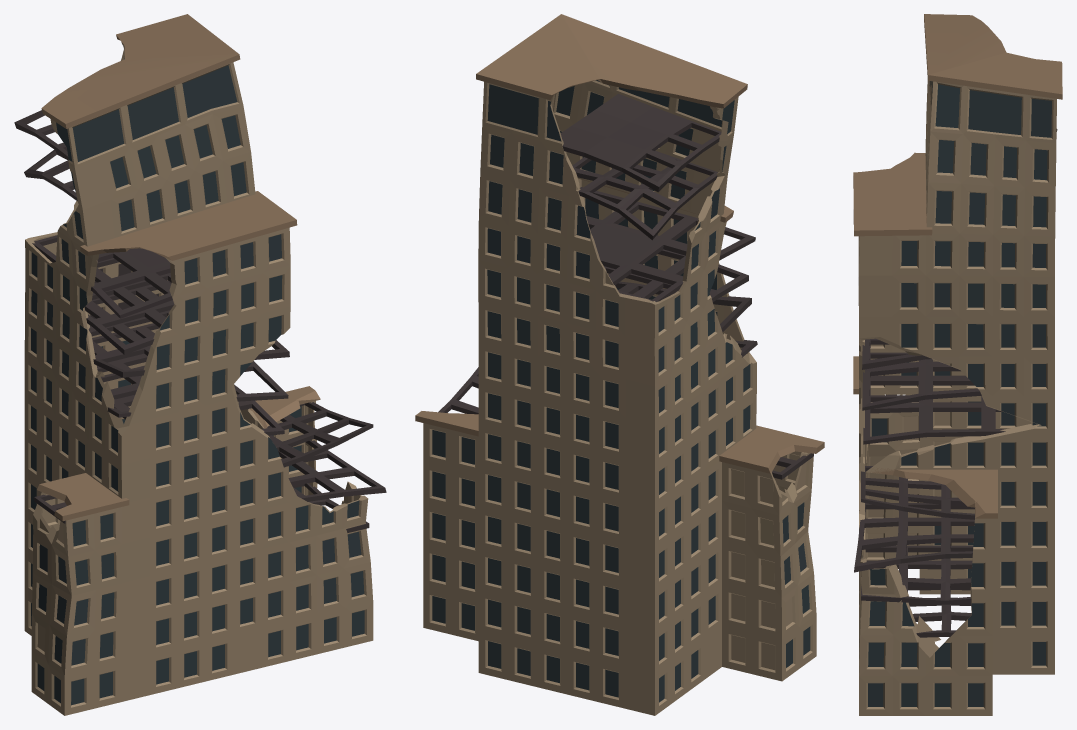
File: LP_PostApoc_BuildingPreset8.fbx
3 renders of one model, left to right at view 1: azimuth 30°, elevation 25°; view 2: azimuth 150°, elevation 25°; view 3: azimuth 270°, elevation 25°, orthographic. The views are drawn at different scales.
Visible parts, largest first — view 1: BuildingPreset8; view 2: BuildingPreset8; view 3: BuildingPreset8.
Part boxes in pixels (left/top/right/bottom): BuildingPreset8: left=14, top=14, right=386, bottom=715; BuildingPreset8: left=415, top=14, right=824, bottom=715; BuildingPreset8: left=853, top=14, right=1062, bottom=715.
Size of the model in its own units: 2191 by 3779 by 1211.
